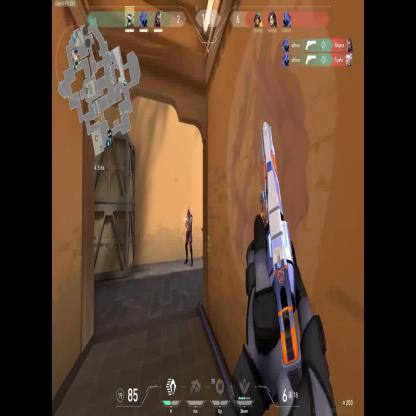enemy: (184, 206, 194, 267)
enemy_head: (187, 206, 191, 216)
